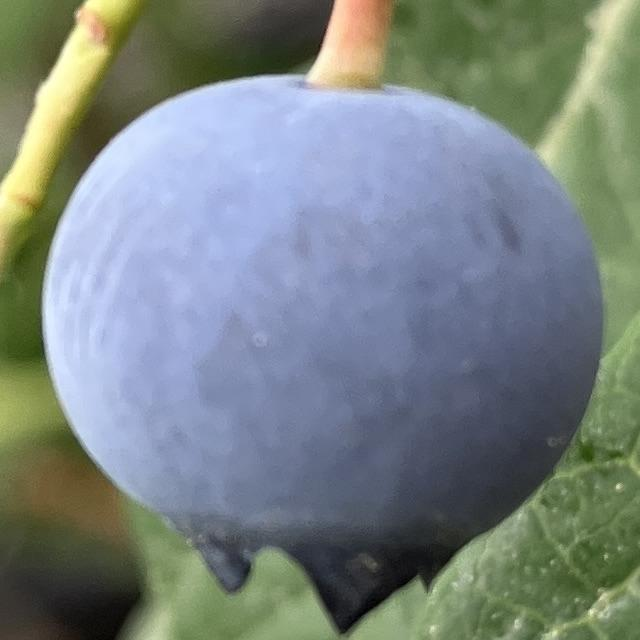Blueberries: (36, 64, 606, 628)
